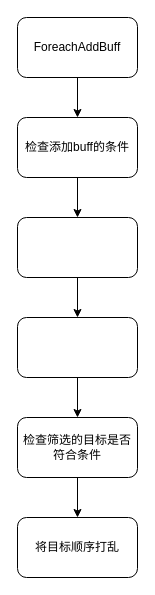
Image size: 155x595. Some labels were removed from this diagram. Each missing label, with the centre of its shape:
找到buff作用的目标: pixel 77 347
计算添加buff的概率: pixel 77 247
